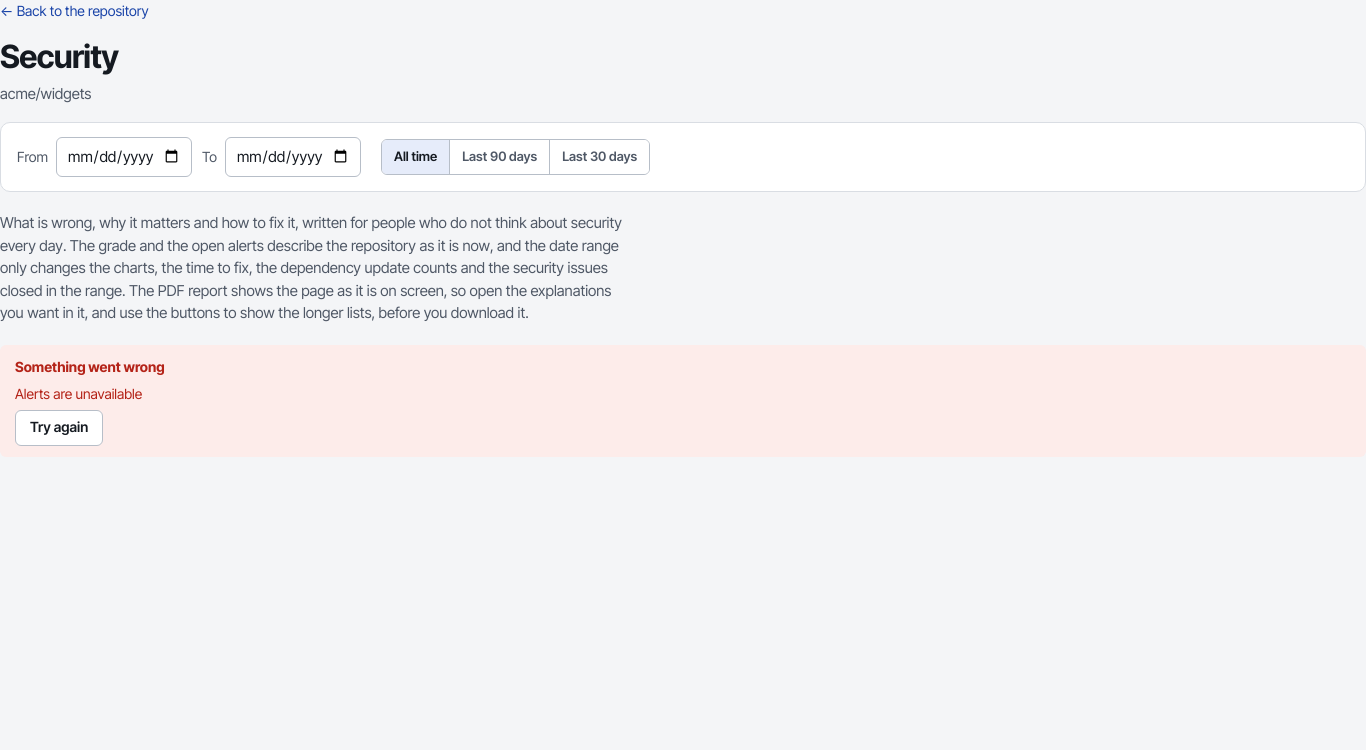
Test: SecurityPage › shows an error with a retry for any other failure
Expected: the text "Alerts are unavailable" is shown, left=15, top=382, right=142, bottom=404
Click the button "Try again".
click(59, 428)  # box left=15, top=410, right=103, bottom=446
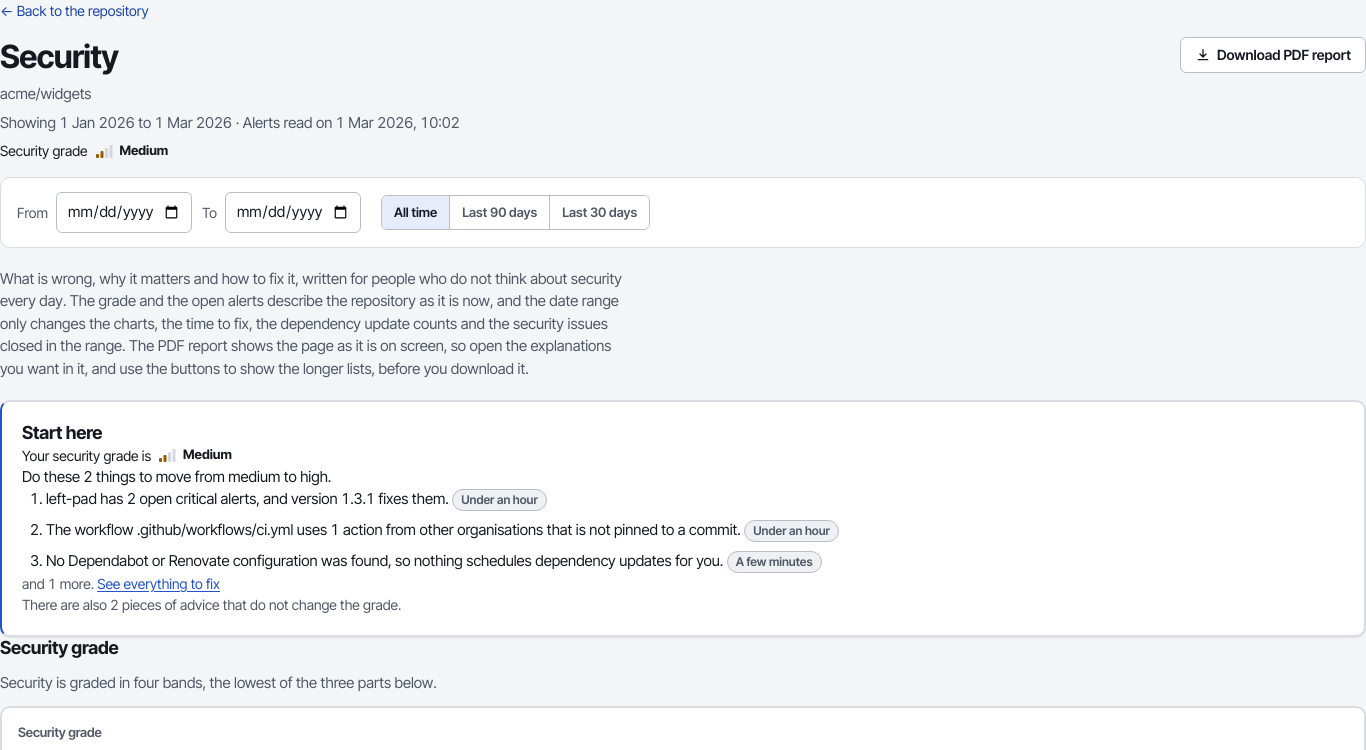
Expected: the heading "Start here" is shown, left=22, top=422, right=102, bottom=443
